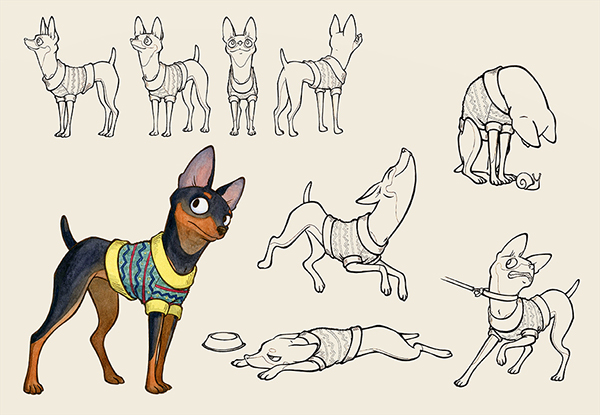dog: (15, 141, 255, 398), (248, 147, 428, 294), (448, 232, 596, 391), (443, 57, 574, 207), (226, 311, 456, 390), (14, 9, 126, 142), (269, 9, 373, 142), (124, 8, 217, 139), (218, 10, 272, 141)
